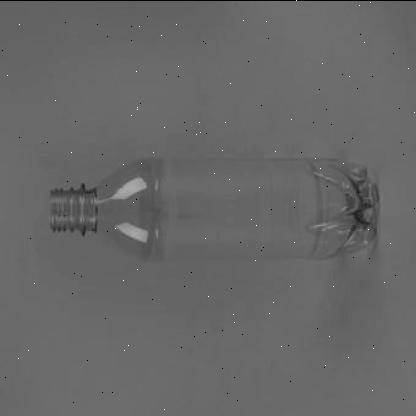Plastic Bottle: (51, 155, 376, 263)
